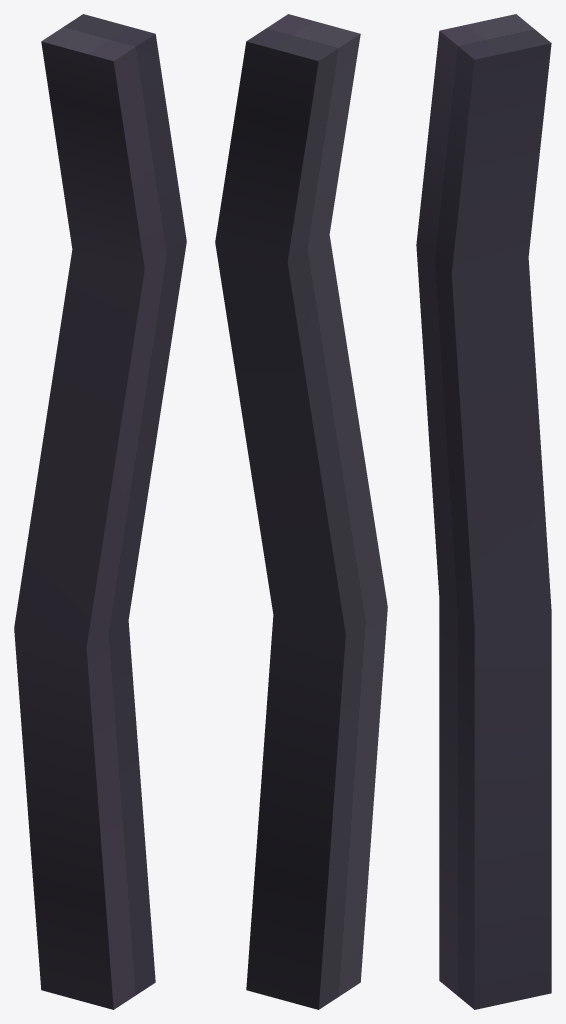
Rendered from SS_Wood2_Modular.fbx.
3 views of the same model, side by side, from view 1: azimuth 30°, elevation 25°; view 2: azimuth 210°, elevation 25°; view 3: azimuth 270°, elevation 25° (orthographic).
Visible parts, largest first — view 1: WoodFenceCabin_Modular; view 2: WoodFenceCabin_Modular; view 3: WoodFenceCabin_Modular.
Part boxes in pixels (x1,y1,x2,y2): WoodFenceCabin_Modular: [14, 14, 186, 1009]; WoodFenceCabin_Modular: [215, 14, 387, 1009]; WoodFenceCabin_Modular: [416, 14, 551, 1009].
Size of the model in its own units: 0.2879 by 1.86 by 0.2396.
